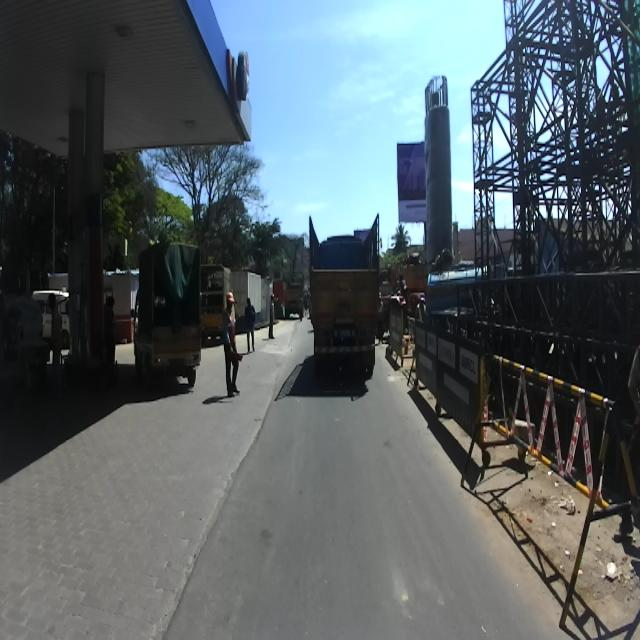barrier ahead at: (399, 310, 490, 487)
person ahead at: (217, 285, 251, 403)
truck ahead at: (306, 210, 385, 372)
